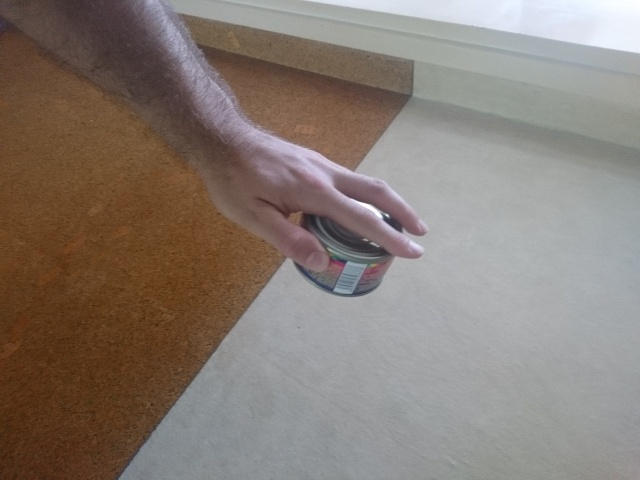Giana Tuna Salad Mexico 185g: (289, 180, 406, 300)
